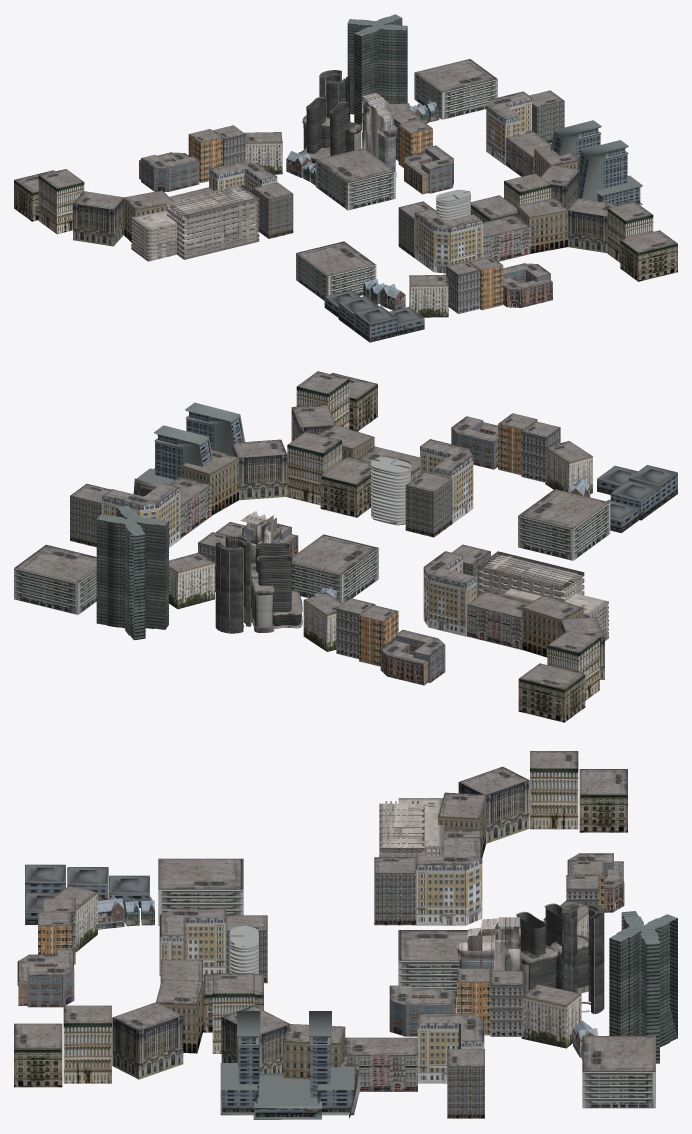
Rendered from city3.fbx.
The picture shows the model from 3 angles, top to bottom: view 1: azimuth 30°, elevation 25°; view 2: azimuth 150°, elevation 25°; view 3: azimuth 270°, elevation 25°; orthographic projection. The views are drawn at different scales.
Visible parts, largest first — view 1: The_City:mesh01, The_City:bldgs2; view 2: The_City:mesh01, The_City:bldgs2; view 3: The_City:mesh01, The_City:bldgs2.
Boxes of the visible parts, bbox=[...] form: The_City:mesh01: bbox=[14, 59, 677, 317]; The_City:bldgs2: bbox=[131, 14, 642, 342]; The_City:mesh01: bbox=[14, 371, 610, 722]; The_City:bldgs2: bbox=[96, 402, 677, 640]; The_City:mesh01: bbox=[14, 751, 655, 1118]; The_City:bldgs2: bbox=[25, 798, 677, 1119].
Bounding box in the file's own units: 274 × 49.79 × 246.
Materials: 2 (2 with a texture image).
